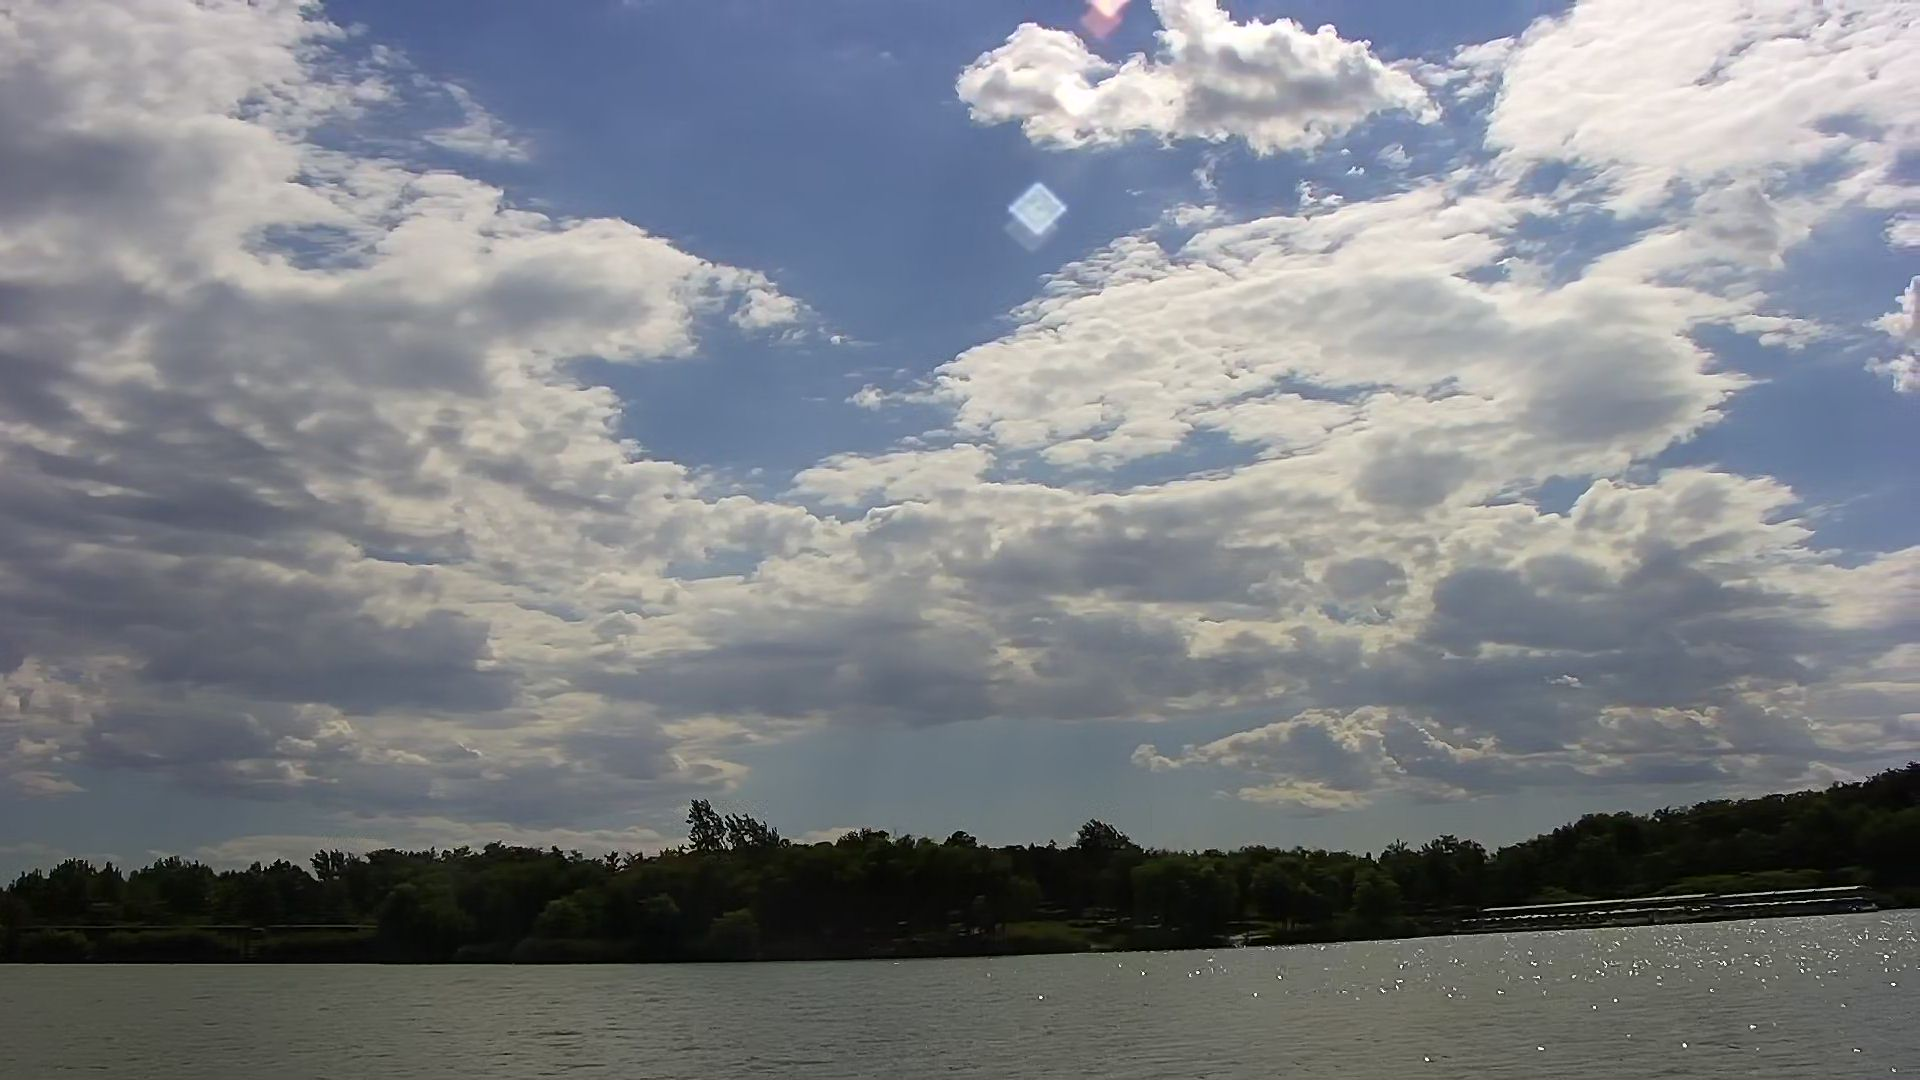harbor: (1443, 882, 1920, 942)
